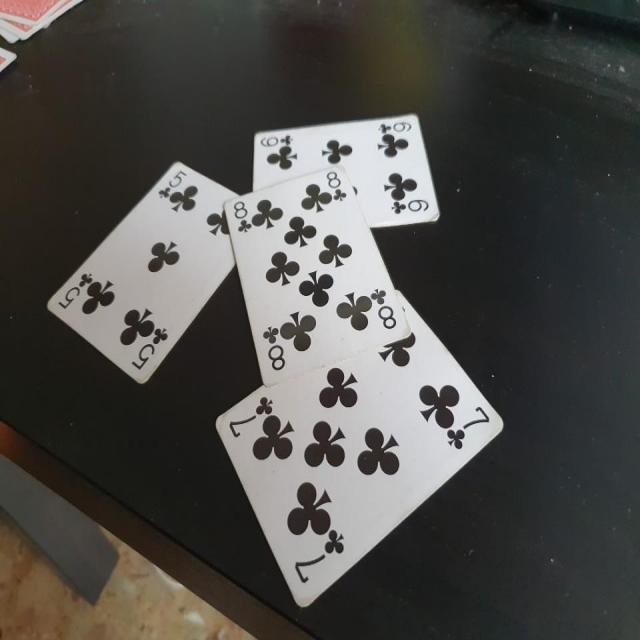5 Trefoils: (46, 158, 247, 390)
6 Trefoils: (252, 112, 442, 228)
7 Trefoils: (213, 290, 506, 609)
8 Trefoils: (224, 164, 412, 388)
